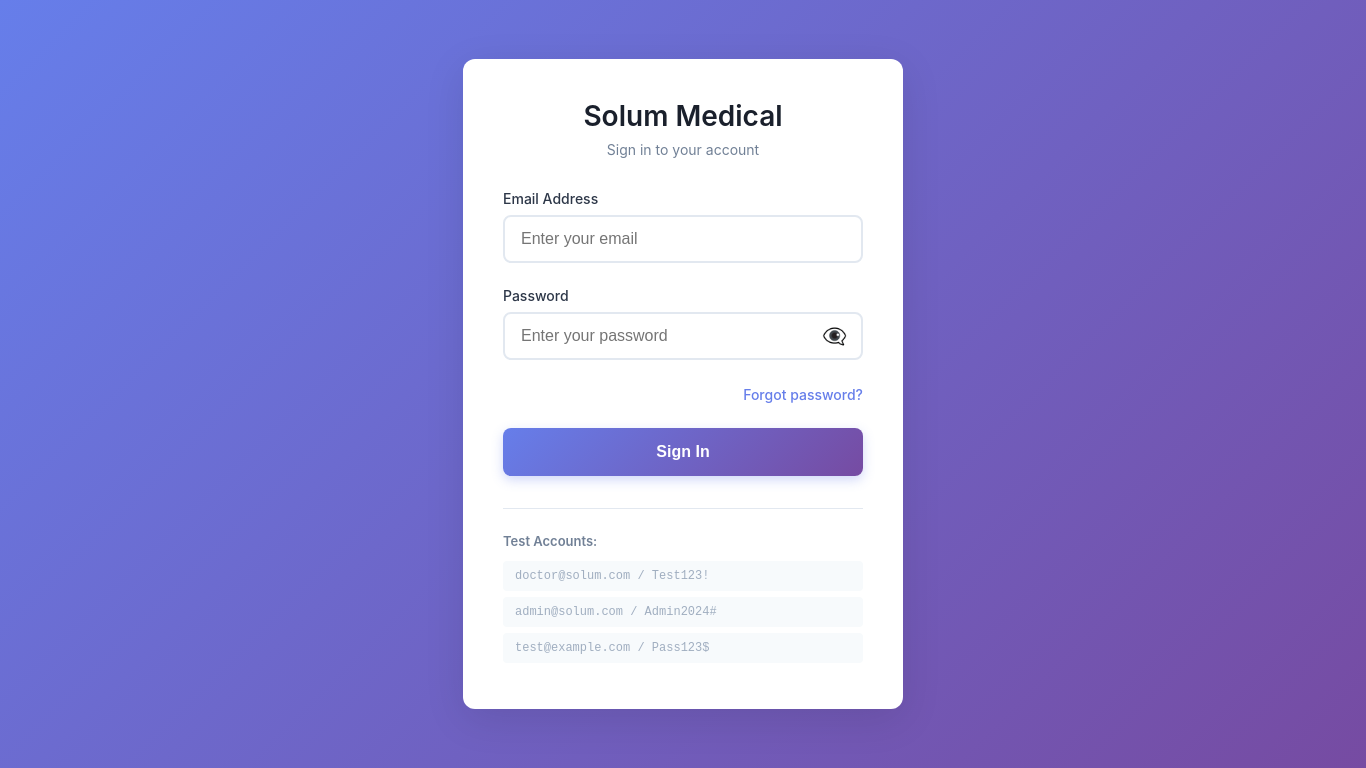
Test: Solum Medical Login Page › Email Validation › should show error for email not in system
Clear the field labelled "Email Address" at x=683, y=239, box [503,215,863,263]
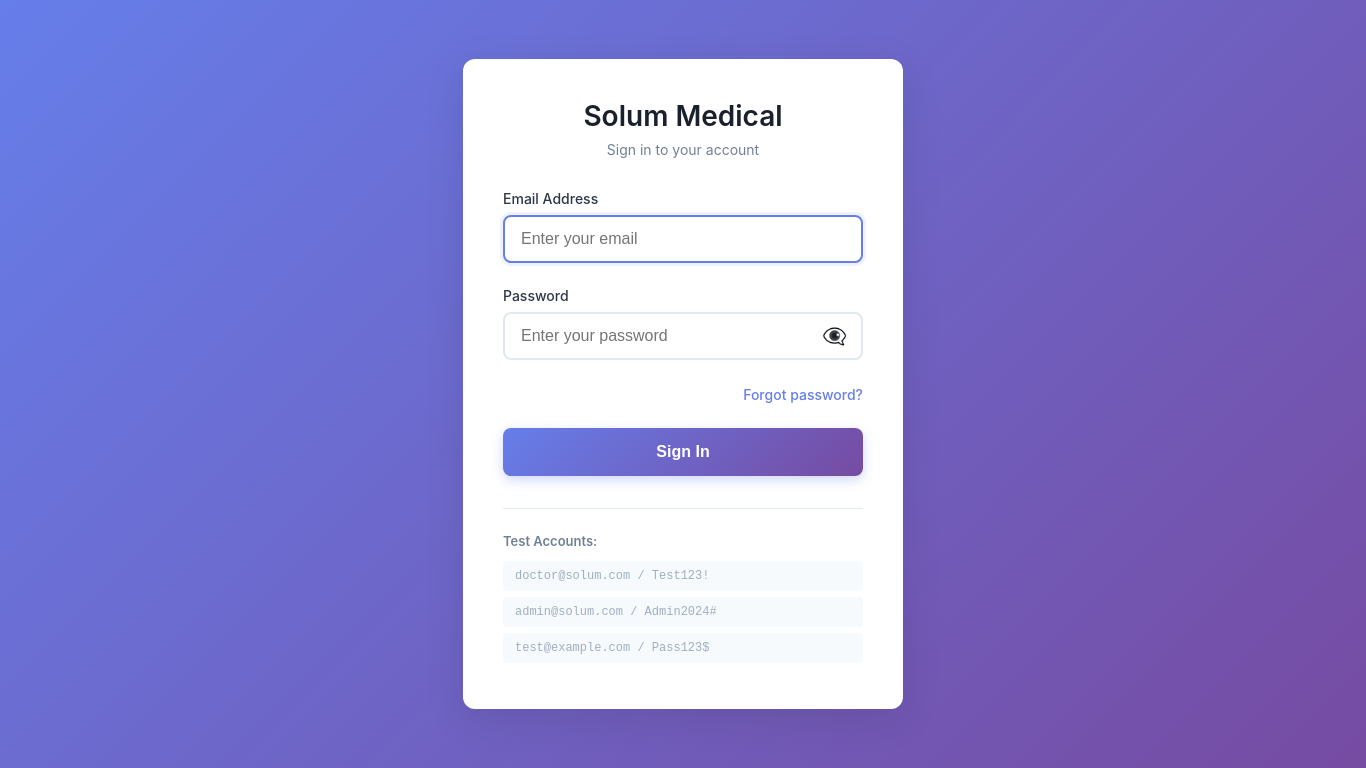
Clear the password field labelled "Password" at x=683, y=336, box [503,312,863,360]
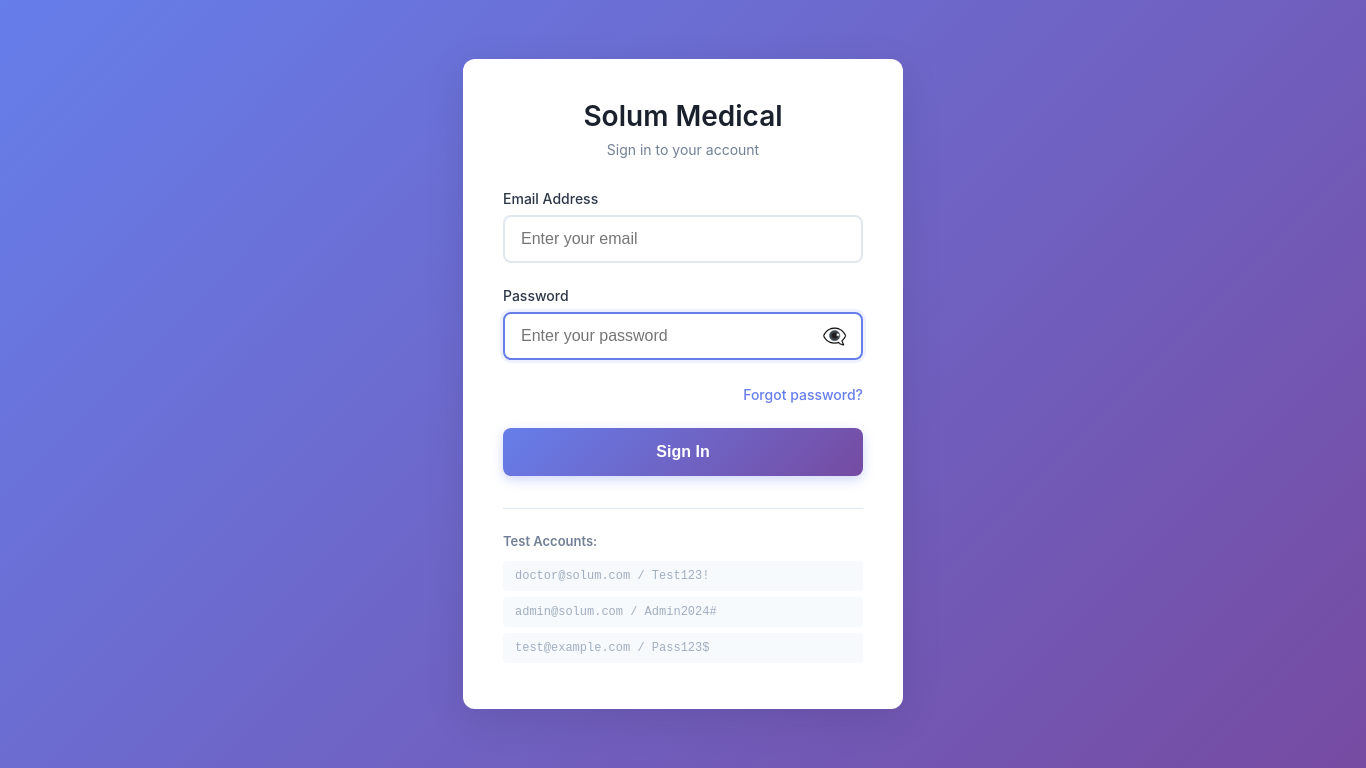
Type "notfound@example.com" into the field labelled "Email Address" at x=683, y=239, box [503,215,863,263]
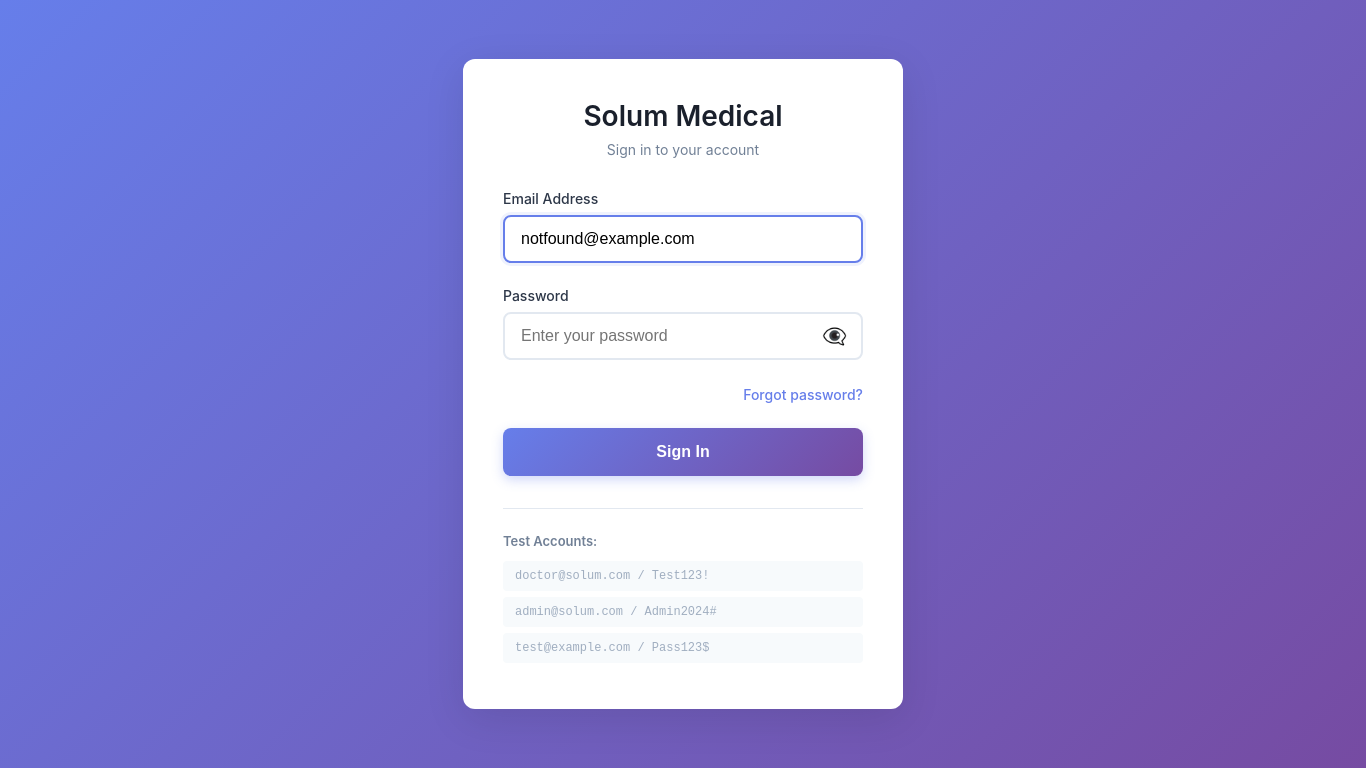
Type "Test123!" into the password field labelled "Password" at x=683, y=336, box [503,312,863,360]
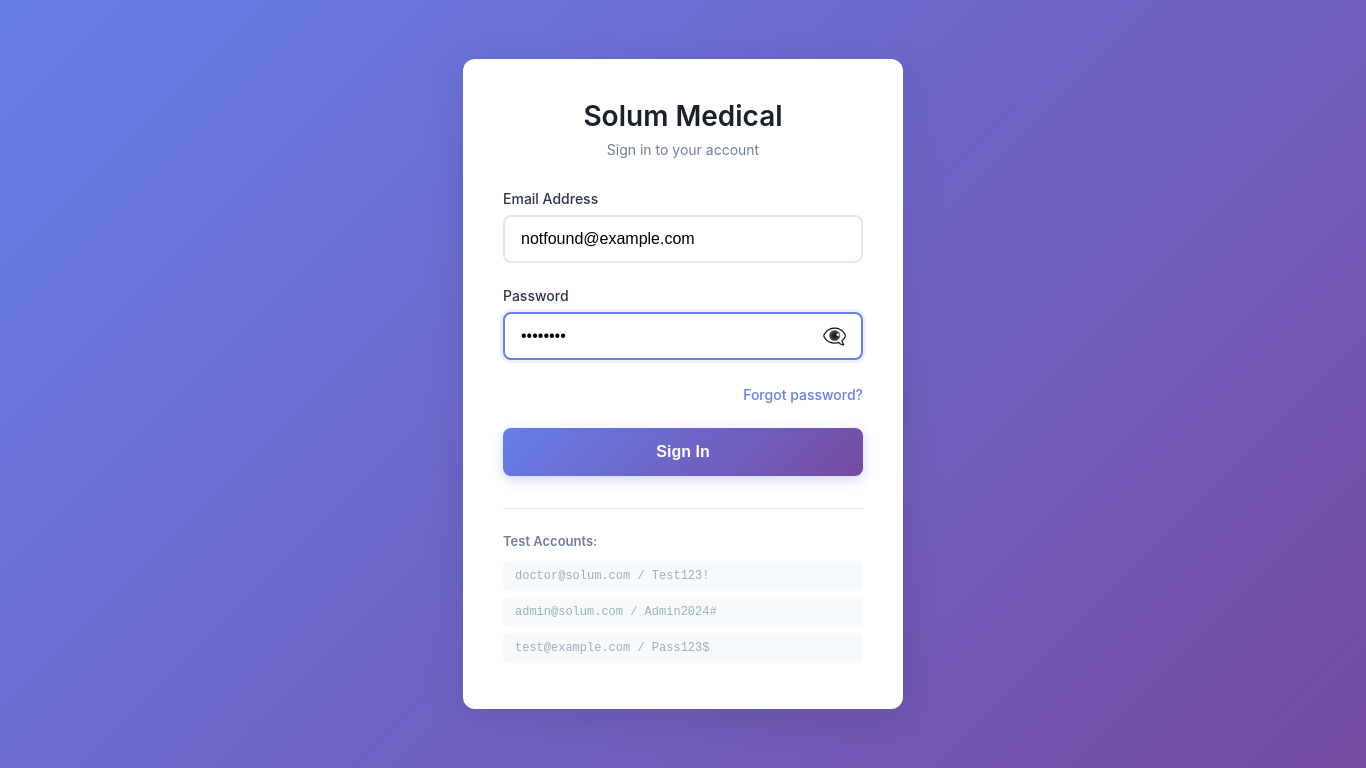
Click the button "Sign In" at x=683, y=452, box [503,428,863,476]
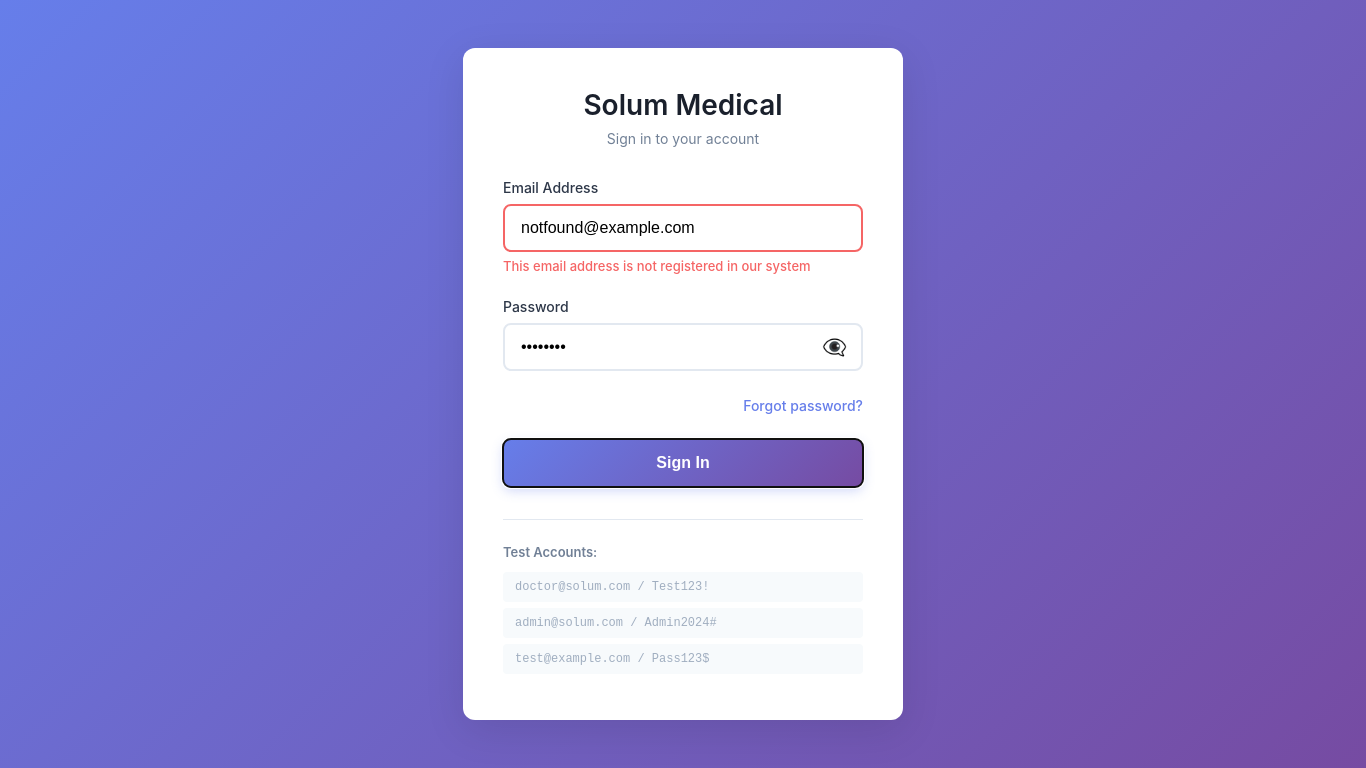
Now the text "This email address is not registered in our system" is shown, box [503,258,863,274]
